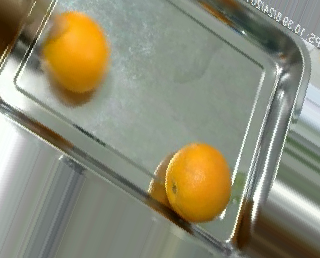Orange: (164, 142, 233, 221), (44, 12, 109, 92)
